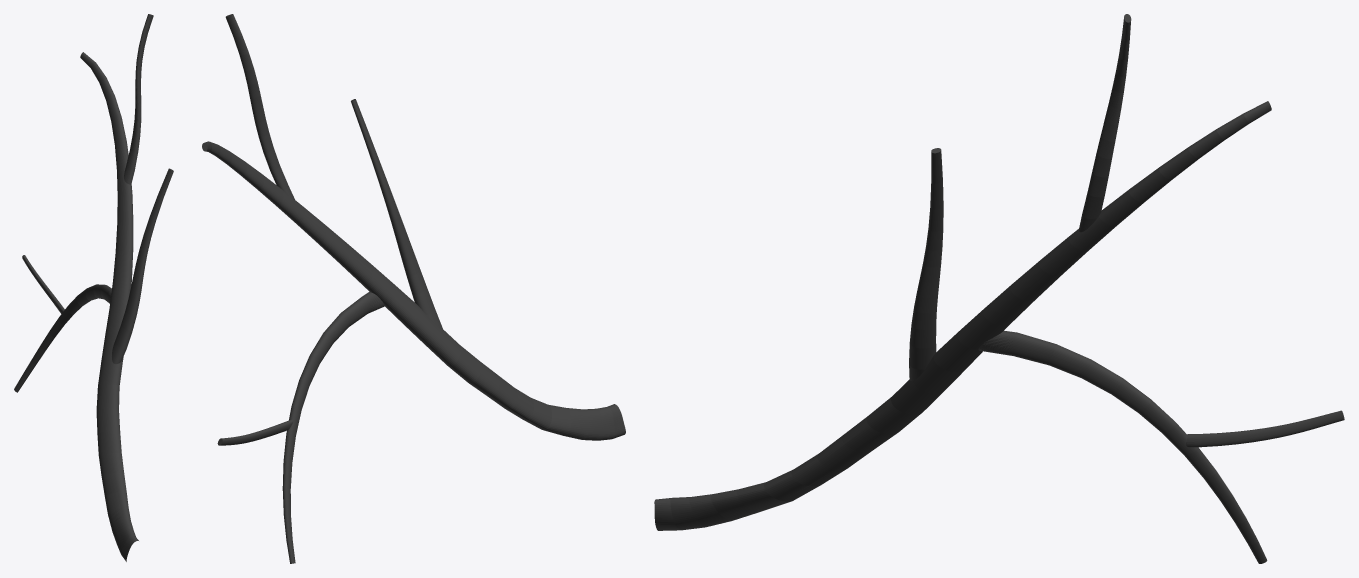
Rendered from N_7_facial_cervical.glb.
3 views of the same model, side by side, from view 1: azimuth 30°, elevation 25°; view 2: azimuth 150°, elevation 25°; view 3: azimuth 270°, elevation 25° (orthographic). The views are drawn at different scales.
Visible parts, largest first — view 1: N_7_facial_cervical; view 2: N_7_facial_cervical; view 3: N_7_facial_cervical.
Boxes of the visible parts, x1,y1,x2,y2 form: N_7_facial_cervical: (14, 14, 173, 561); N_7_facial_cervical: (202, 14, 625, 563); N_7_facial_cervical: (654, 14, 1344, 563).
Bounding box in the file's own units: 0.00609 × 0.0135 × 0.0131.
Materials: 1 (1 with a texture image).
